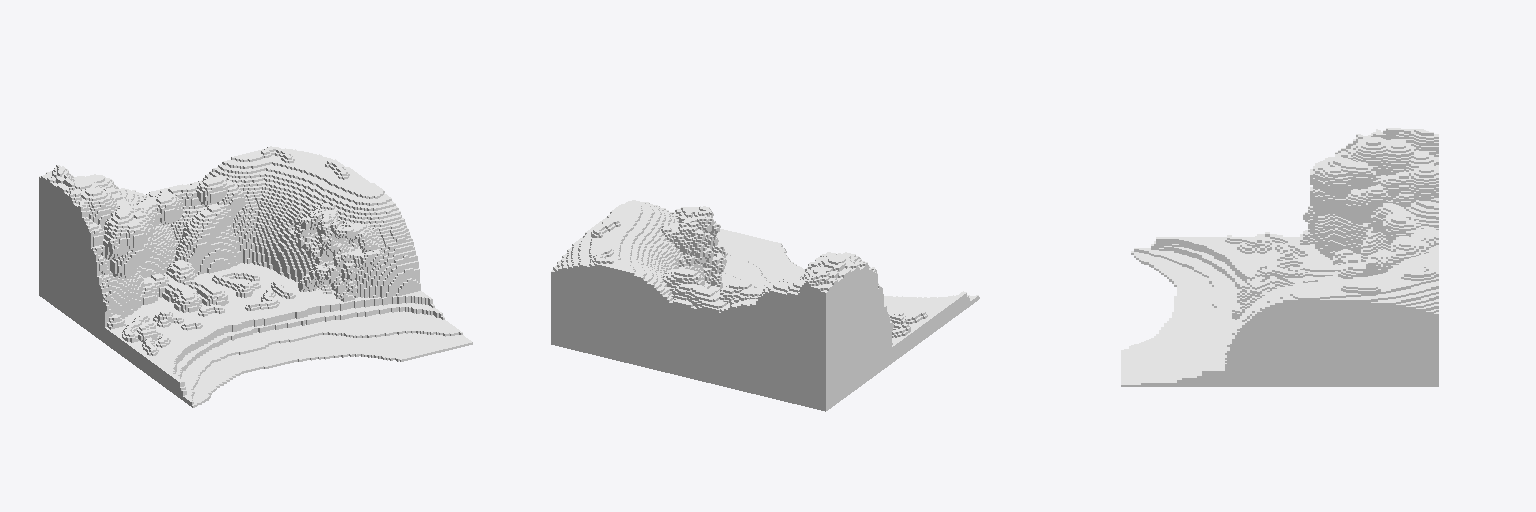
Rendered from Border2.obj.
3 views of the same model, side by side, from view 1: azimuth 30°, elevation 25°; view 2: azimuth 150°, elevation 25°; view 3: azimuth 270°, elevation 25° (orthographic).
Size of the model in its own units: 126 by 56 by 126.